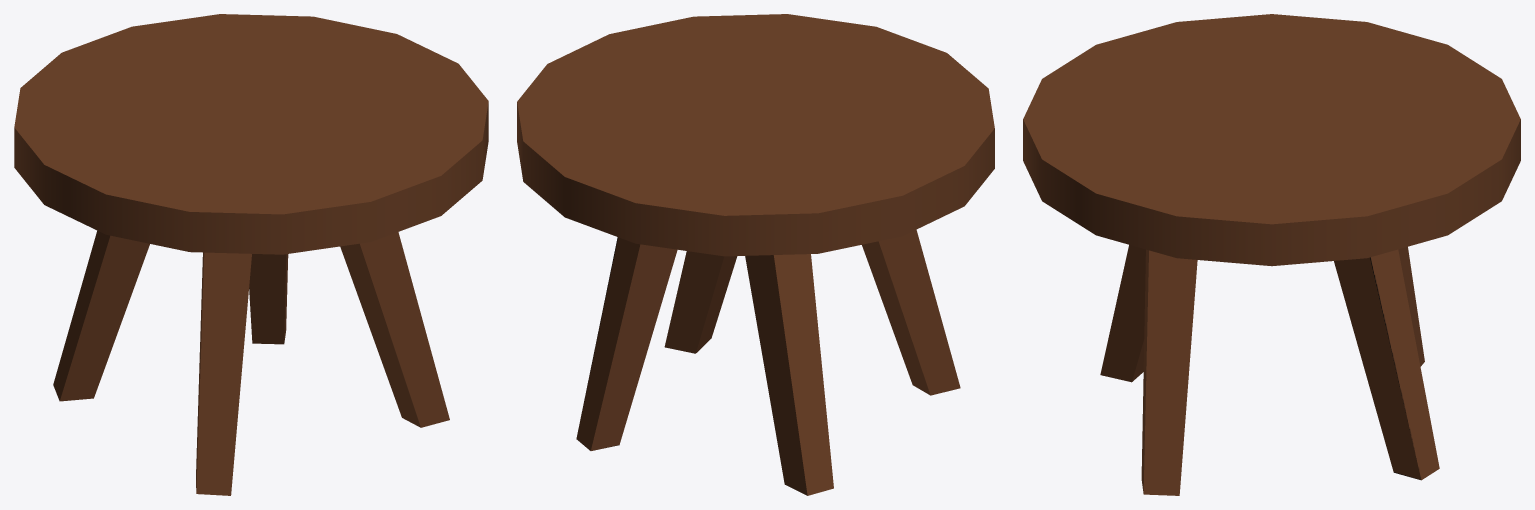
Rendered from Clean stool.glb.
3 views of the same model, side by side, from view 1: azimuth 30°, elevation 25°; view 2: azimuth 150°, elevation 25°; view 3: azimuth 270°, elevation 25° (orthographic). The views are drawn at different scales.
Visible parts, largest first — view 1: Cylinder, Cube, Cube.001, Cube.002, Cube.003; view 2: Cylinder, Cube.002, Cube.003, Cube, Cube.001; view 3: Cylinder, Cube.003, Cube.001, Cube, Cube.002.
Part boxes in pixels (x1,y1,x2,y2): Cylinder: (14, 14, 488, 254); Cube: (196, 252, 251, 495); Cube.001: (340, 232, 449, 427); Cube.002: (53, 230, 149, 401); Cube.003: (249, 254, 288, 344); Cylinder: (517, 14, 994, 256); Cube.002: (745, 254, 833, 495); Cube.003: (576, 237, 677, 450); Cube: (862, 229, 960, 395); Cube.001: (664, 251, 737, 353); Cylinder: (1023, 14, 1520, 266); Cube.003: (1334, 249, 1439, 480); Cube.001: (1141, 249, 1197, 495); Cube: (1100, 245, 1145, 382); Cube.002: (1398, 247, 1424, 366).
Bounding box in the file's own units: 0.4037 × 0.2758 × 0.4037.
Materials: 2 (2 with a texture image).
